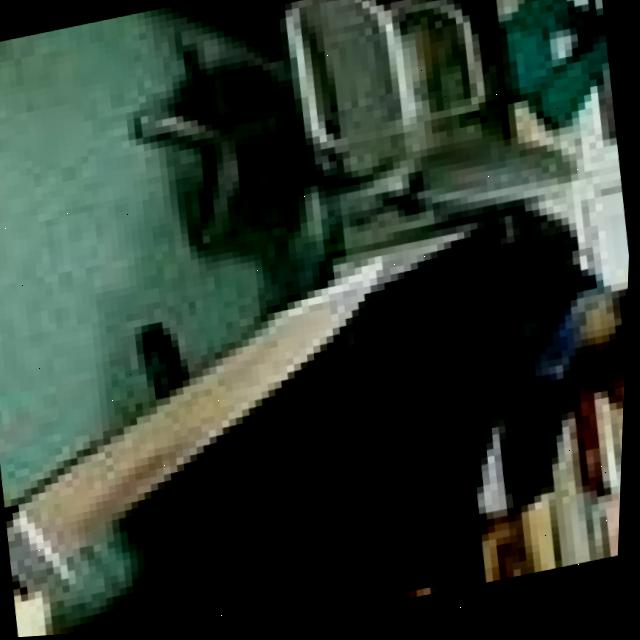knife: (0, 258, 428, 599)
